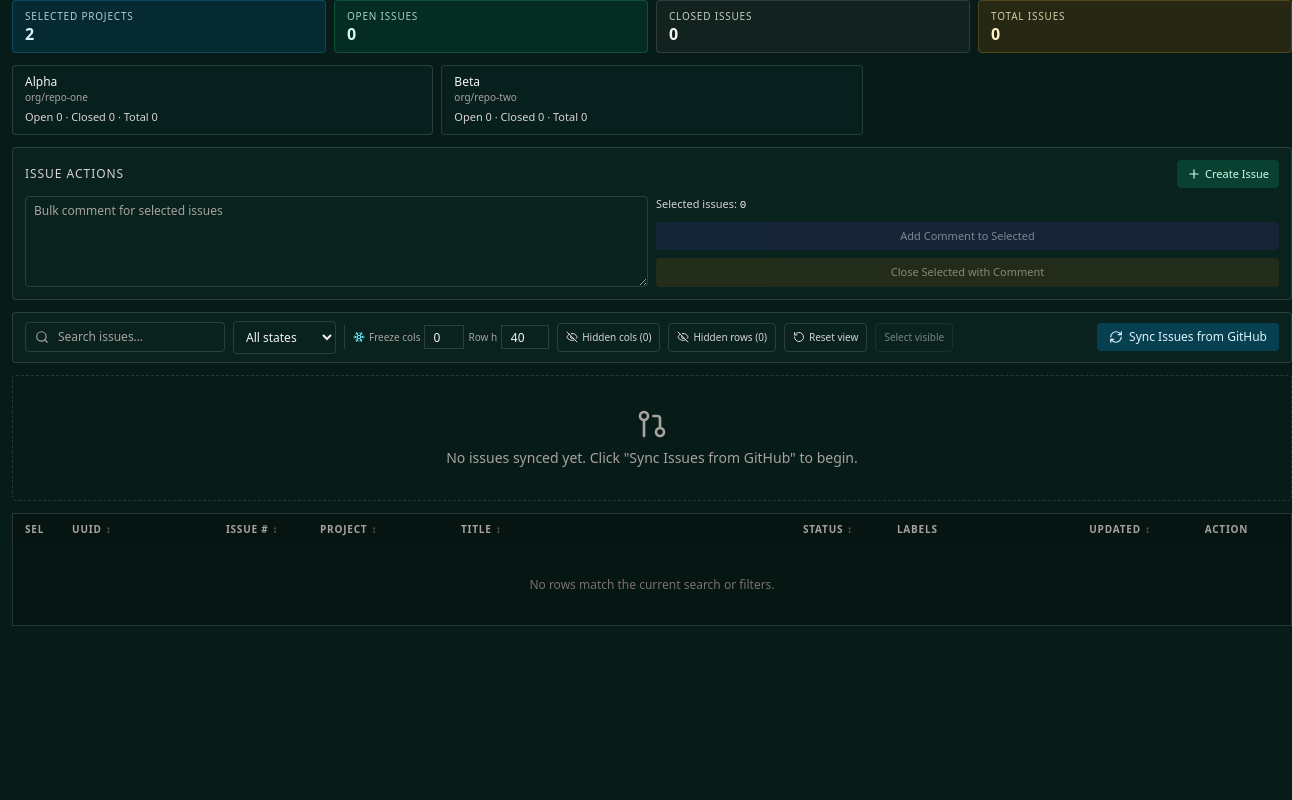
Test: IssuesTab › syncs selected repositories and shows per-project counts
This screenshot has width=1292, height=800.
Click the button "Sync Issues from GitHub". click: (1188, 337)
box: [1097, 323, 1279, 351]
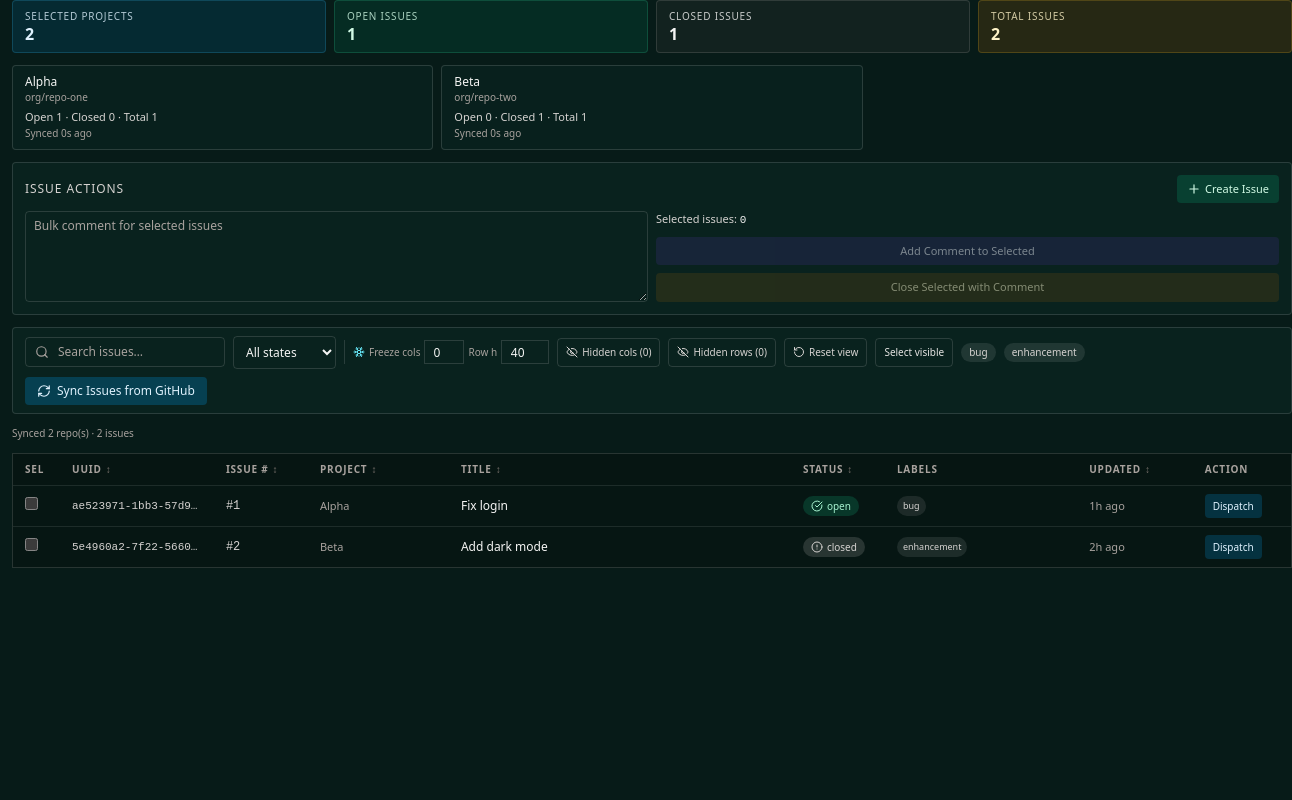
Now the text "Open 1 · Closed 0 · Total 1" is shown, box [25, 109, 158, 124]
Now the text "Open 0 · Closed 1 · Total 1" is shown, box [454, 109, 587, 124]
Now the text "Fix login" is shown, box [461, 496, 508, 514]
